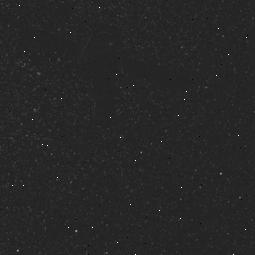xmm_newton: (63, 33, 162, 140)
